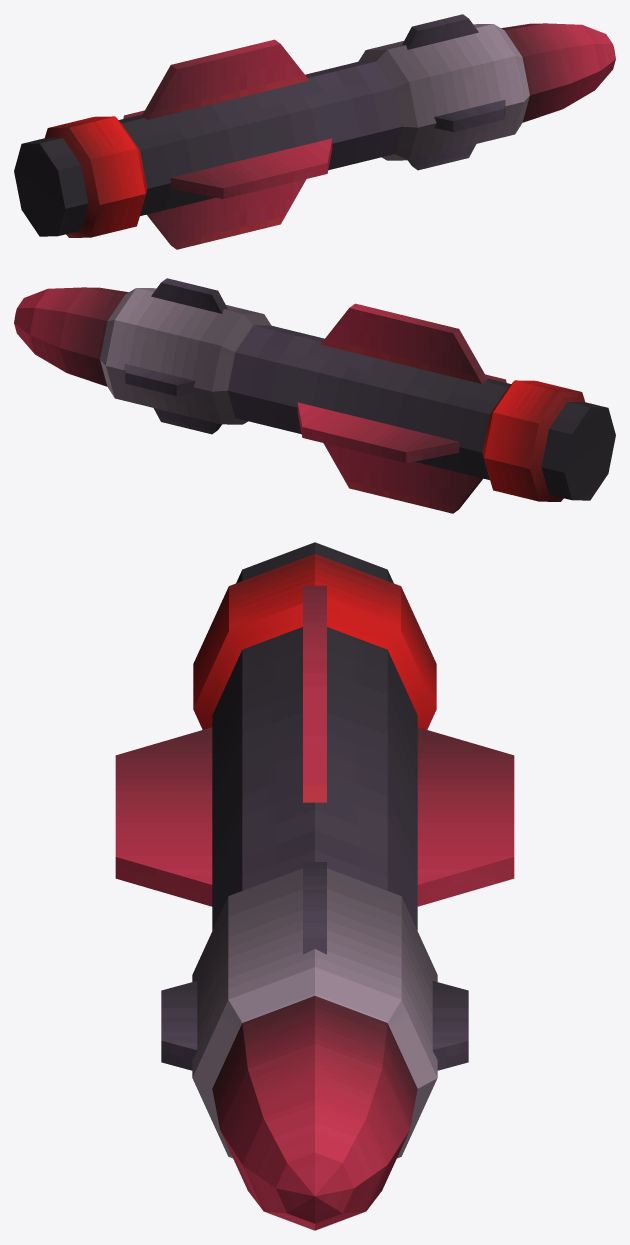
The model's file is SM_Rocket.fbx.
The picture shows the model from 3 angles, top to bottom: view 1: azimuth 30°, elevation 25°; view 2: azimuth 150°, elevation 25°; view 3: azimuth 270°, elevation 25°; orthographic projection. The views are drawn at different scales.
Parts seen in each view (by area): view 1: Rocket; view 2: Rocket; view 3: Rocket.
Part boxes in pixels (<box>): Rocket: <box>14,14,615,249</box>; Rocket: <box>14,278,615,513</box>; Rocket: <box>115,542,514,1230</box>.
Bounding box in the file's own units: 196 × 58.75 × 58.75.
Materials: 1 (1 with a texture image).
